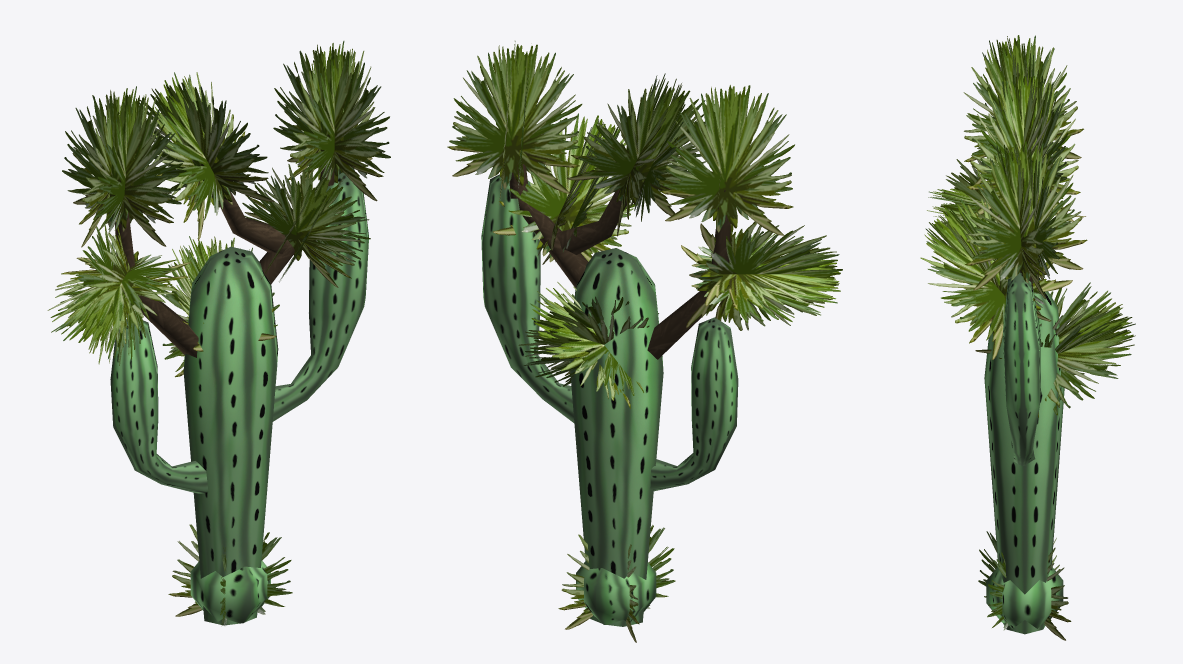
The model's file is Cactus.fbx.
3 views of the same model, side by side, from view 1: azimuth 30°, elevation 25°; view 2: azimuth 150°, elevation 25°; view 3: azimuth 270°, elevation 25° (orthographic). The views are drawn at different scales.
Visible parts, largest first — view 1: tree, cactus2, cactus1; view 2: tree, cactus2, cactus1; view 3: tree, cactus2, cactus1.
Boxes of the visible parts, bbox=[...] form: tree: bbox=[47, 41, 390, 377]; cactus2: bbox=[110, 172, 368, 625]; cactus1: bbox=[168, 524, 292, 625]; tree: bbox=[447, 41, 842, 408]; cactus2: bbox=[481, 174, 738, 626]; cactus1: bbox=[558, 525, 675, 642]; tree: bbox=[920, 35, 1135, 417]; cactus2: bbox=[984, 272, 1064, 634]; cactus1: bbox=[978, 531, 1071, 640].
Size of the model in its own units: 1086 by 1501 by 697.
1 material, 1 textured.
